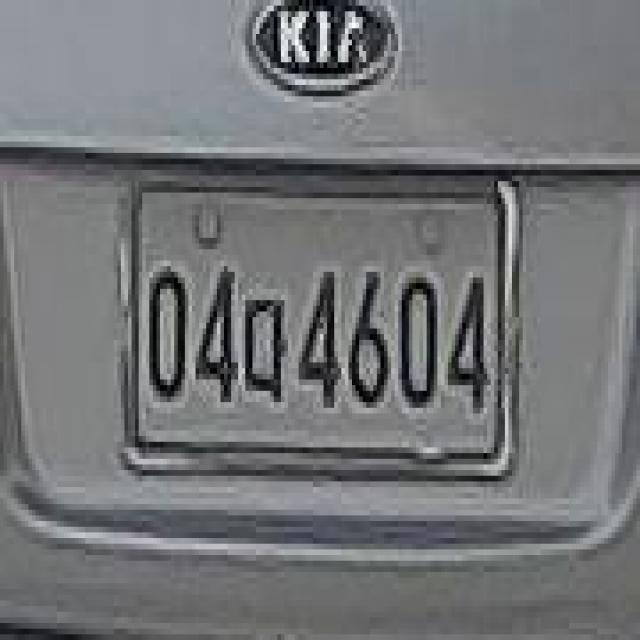illegal_plate: (120, 166, 520, 484)
